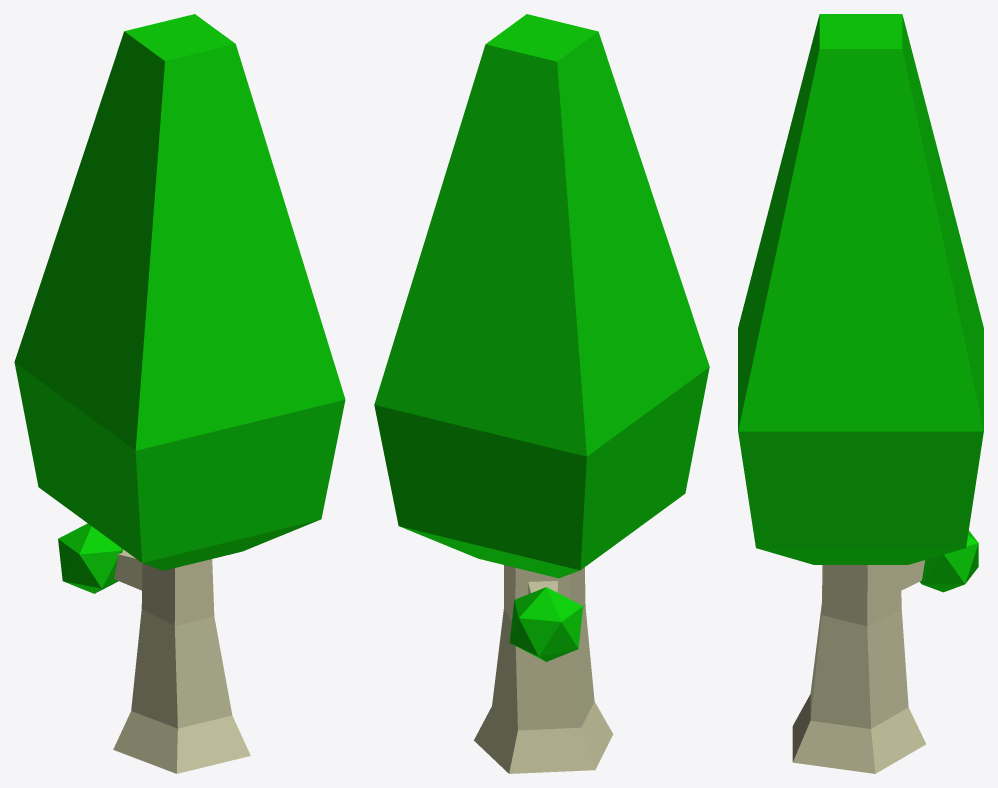
Rendered from roadtree.fbx.
3 views of the same model, side by side, from view 1: azimuth 30°, elevation 25°; view 2: azimuth 150°, elevation 25°; view 3: azimuth 270°, elevation 25° (orthographic).
Visible parts, largest first — view 1: Circle.003; view 2: Circle.003; view 3: Circle.003.
Part boxes in pixels (bbox=[...]): Circle.003: bbox=[14, 14, 345, 773]; Circle.003: bbox=[374, 14, 709, 773]; Circle.003: bbox=[738, 14, 983, 773].
Size of the model in its own units: 384 by 1227 by 384.
